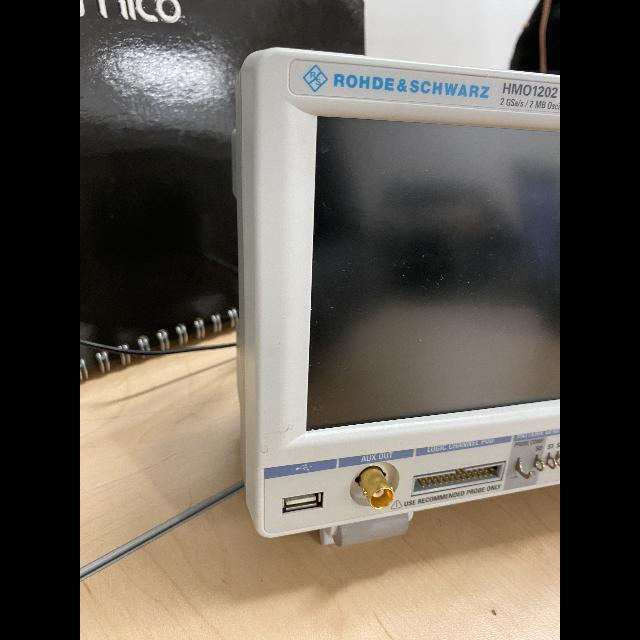Digital-Oscilloscope: (234, 47, 560, 546)
